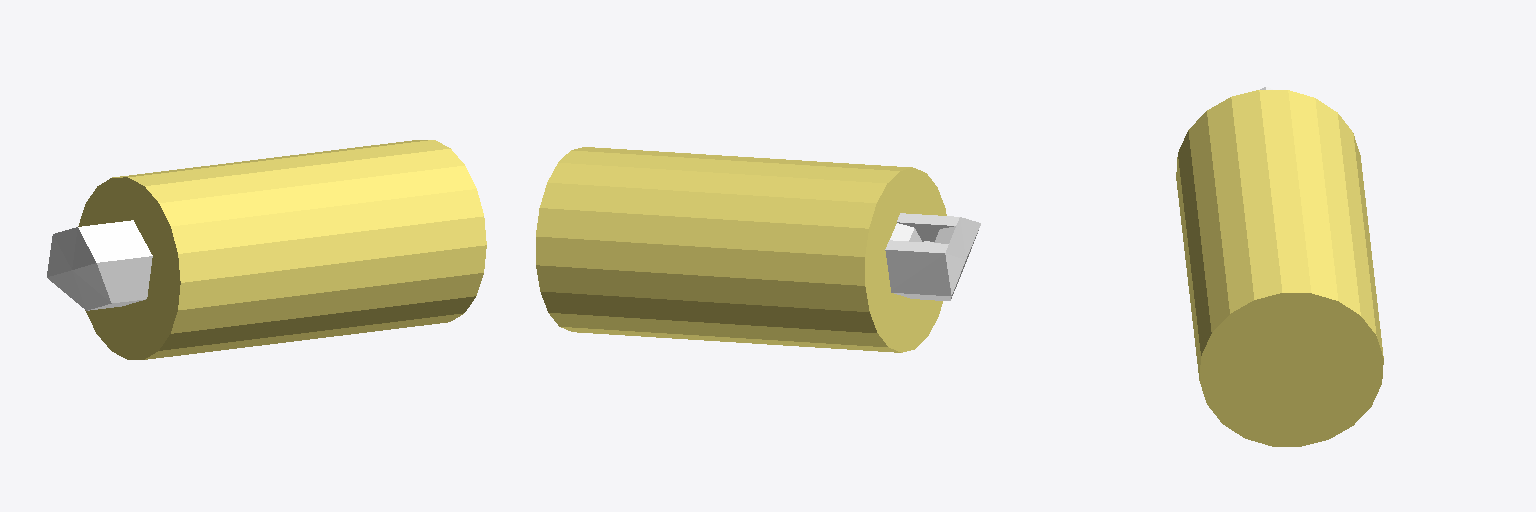
Rendered from spray.obj.
3 views of the same model, side by side, from view 1: azimuth 30°, elevation 25°; view 2: azimuth 150°, elevation 25°; view 3: azimuth 270°, elevation 25° (orthographic).
Visible parts, largest first — view 1: Cylinder, Sprayer; view 2: Cylinder, Sprayer; view 3: Cylinder.
Boxes of the visible parts, <box> form: Cylinder: <box>78,140,486,359</box>; Sprayer: <box>47,220,152,310</box>; Cylinder: <box>536,147,946,352</box>; Sprayer: <box>885,213,980,300</box>; Cylinder: <box>1176,90,1383,446</box>.
Size of the model in its own units: 0.9287 by 0.4828 by 0.425.